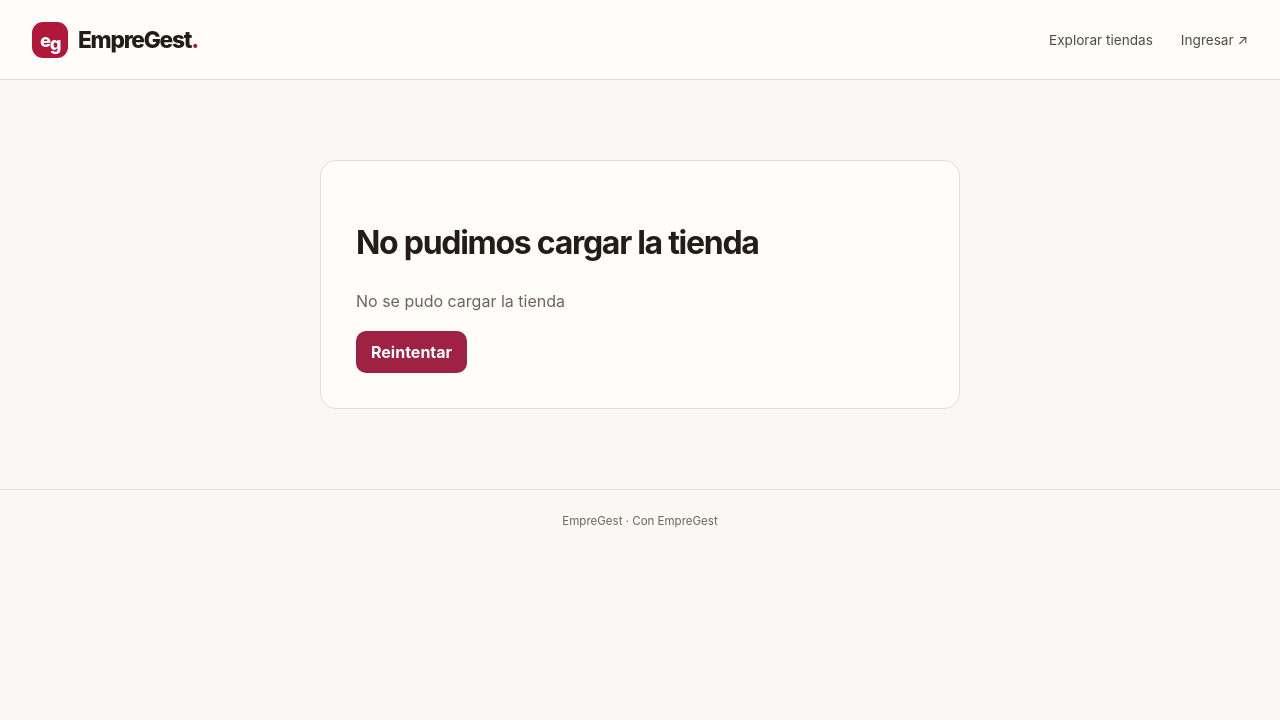
Test: error de red permite reintentar y no se confunde con catálogo vacío
Expected: the message shows "No se pudo cargar", [356, 291, 565, 311]
Click the button "Reintentar".
click(412, 352)  # box [356, 331, 467, 373]
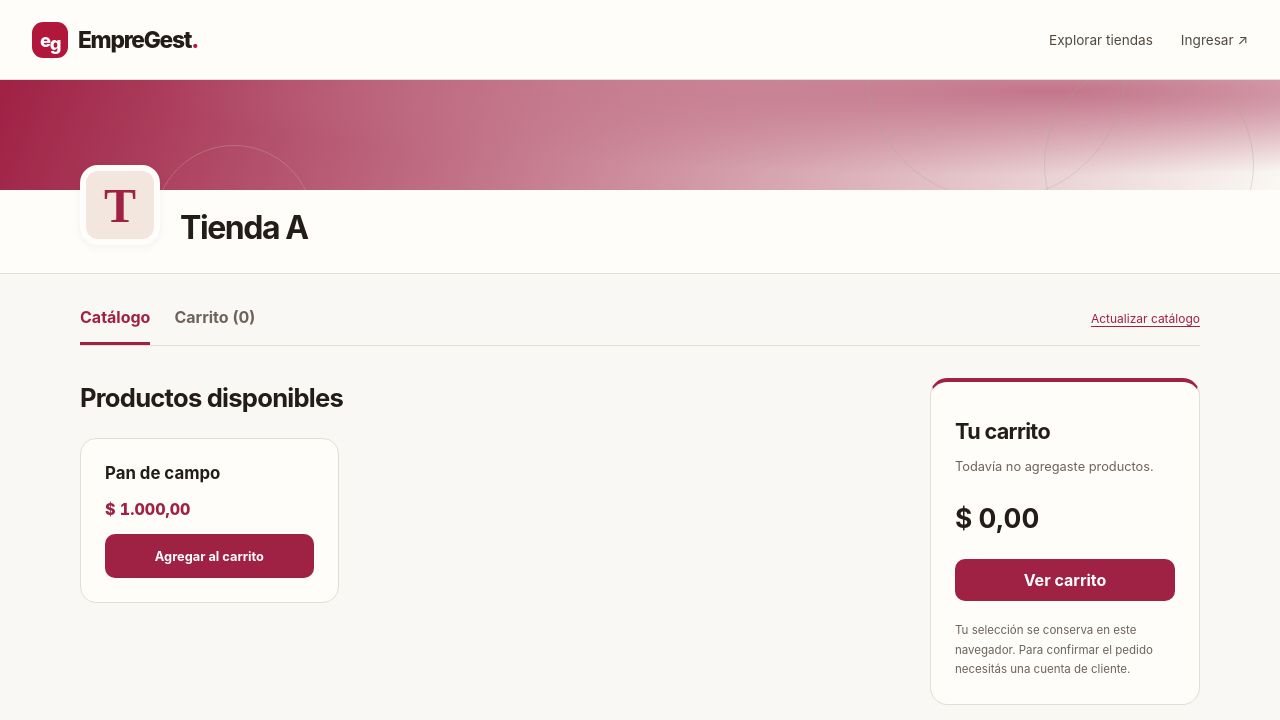
Now the heading "Tienda A" is shown, box [180, 208, 308, 247]
